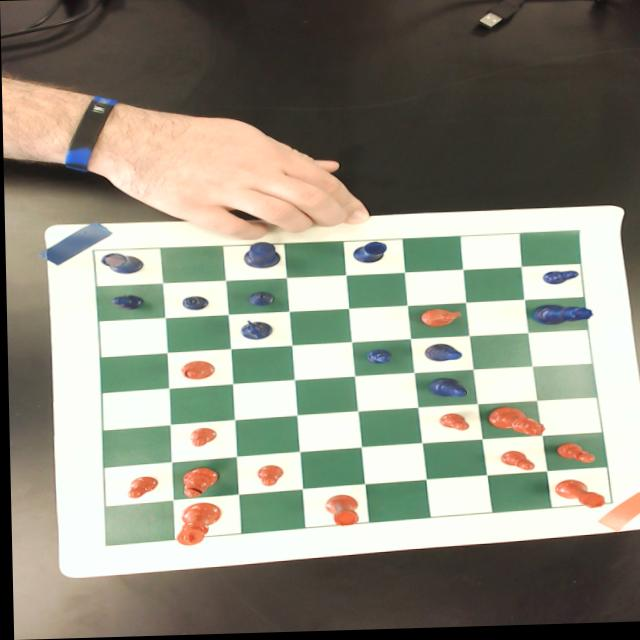B: (425, 379, 466, 400), (421, 345, 462, 364)
K: (241, 242, 280, 269)
N: (237, 319, 274, 341)
P: (541, 272, 577, 287), (109, 295, 142, 311), (365, 350, 392, 366), (246, 292, 274, 307), (180, 296, 208, 311)
Q: (530, 306, 592, 328)
R: (99, 253, 143, 274), (351, 242, 387, 265)
b: (179, 467, 218, 498), (180, 361, 213, 380)
cb: (92, 233, 610, 546)
k: (173, 502, 220, 546)
n: (419, 310, 460, 329)
p: (552, 444, 593, 467), (123, 476, 158, 499), (499, 451, 533, 474), (185, 427, 217, 448), (255, 465, 283, 487), (437, 414, 468, 433)
q: (485, 408, 544, 439)
r: (552, 481, 605, 511), (323, 496, 358, 527)
